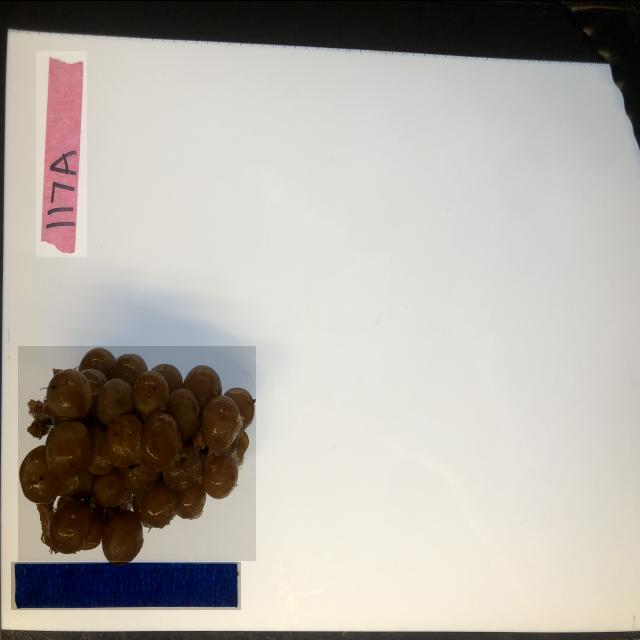grape_cluster: (18, 345, 256, 560)
index: (36, 50, 87, 256)
measure_label: (12, 561, 242, 609)
